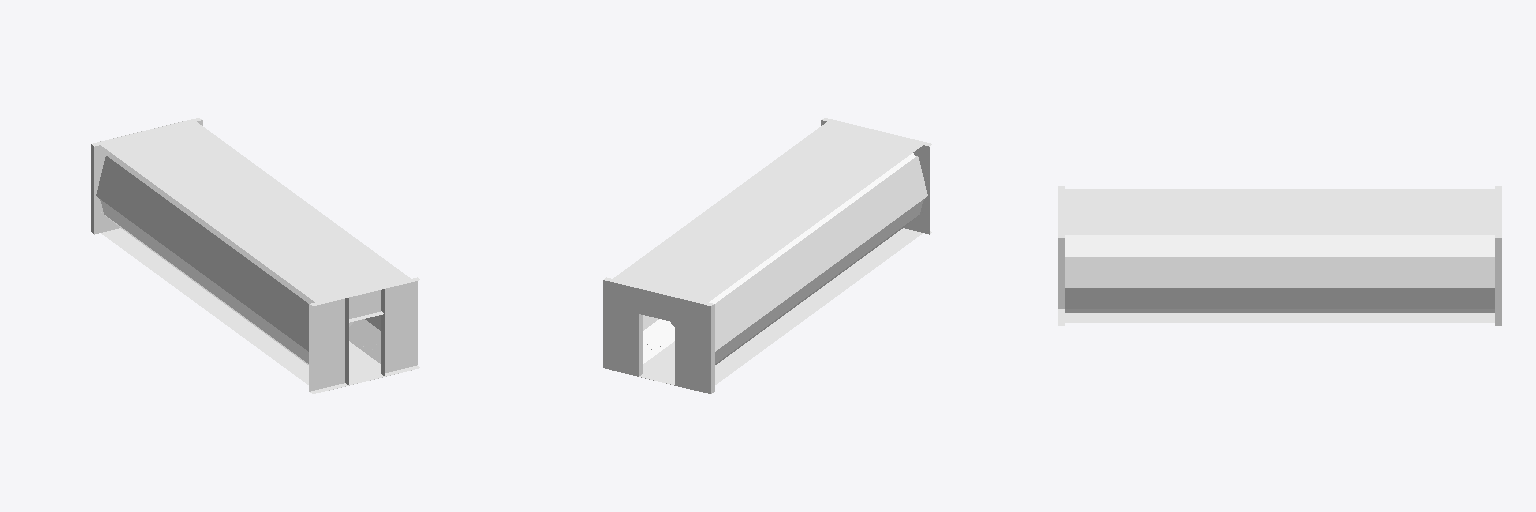
The model's file is HC_room2.obj.
3 renders of one model, left to right at view 1: azimuth 30°, elevation 25°; view 2: azimuth 150°, elevation 25°; view 3: azimuth 270°, elevation 25°, orthographic.
Parts seen in each view (by area): view 1: room2tunnels; view 2: room2tunnels; view 3: room2tunnels.
Part boxes in pixels (left/top/right/bottom): room2tunnels: left=91, top=118, right=419, bottom=393; room2tunnels: left=603, top=118, right=931, bottom=393; room2tunnels: left=1058, top=186, right=1501, bottom=325.
Size of the model in its own units: 5.76 by 4.5 by 20.48.